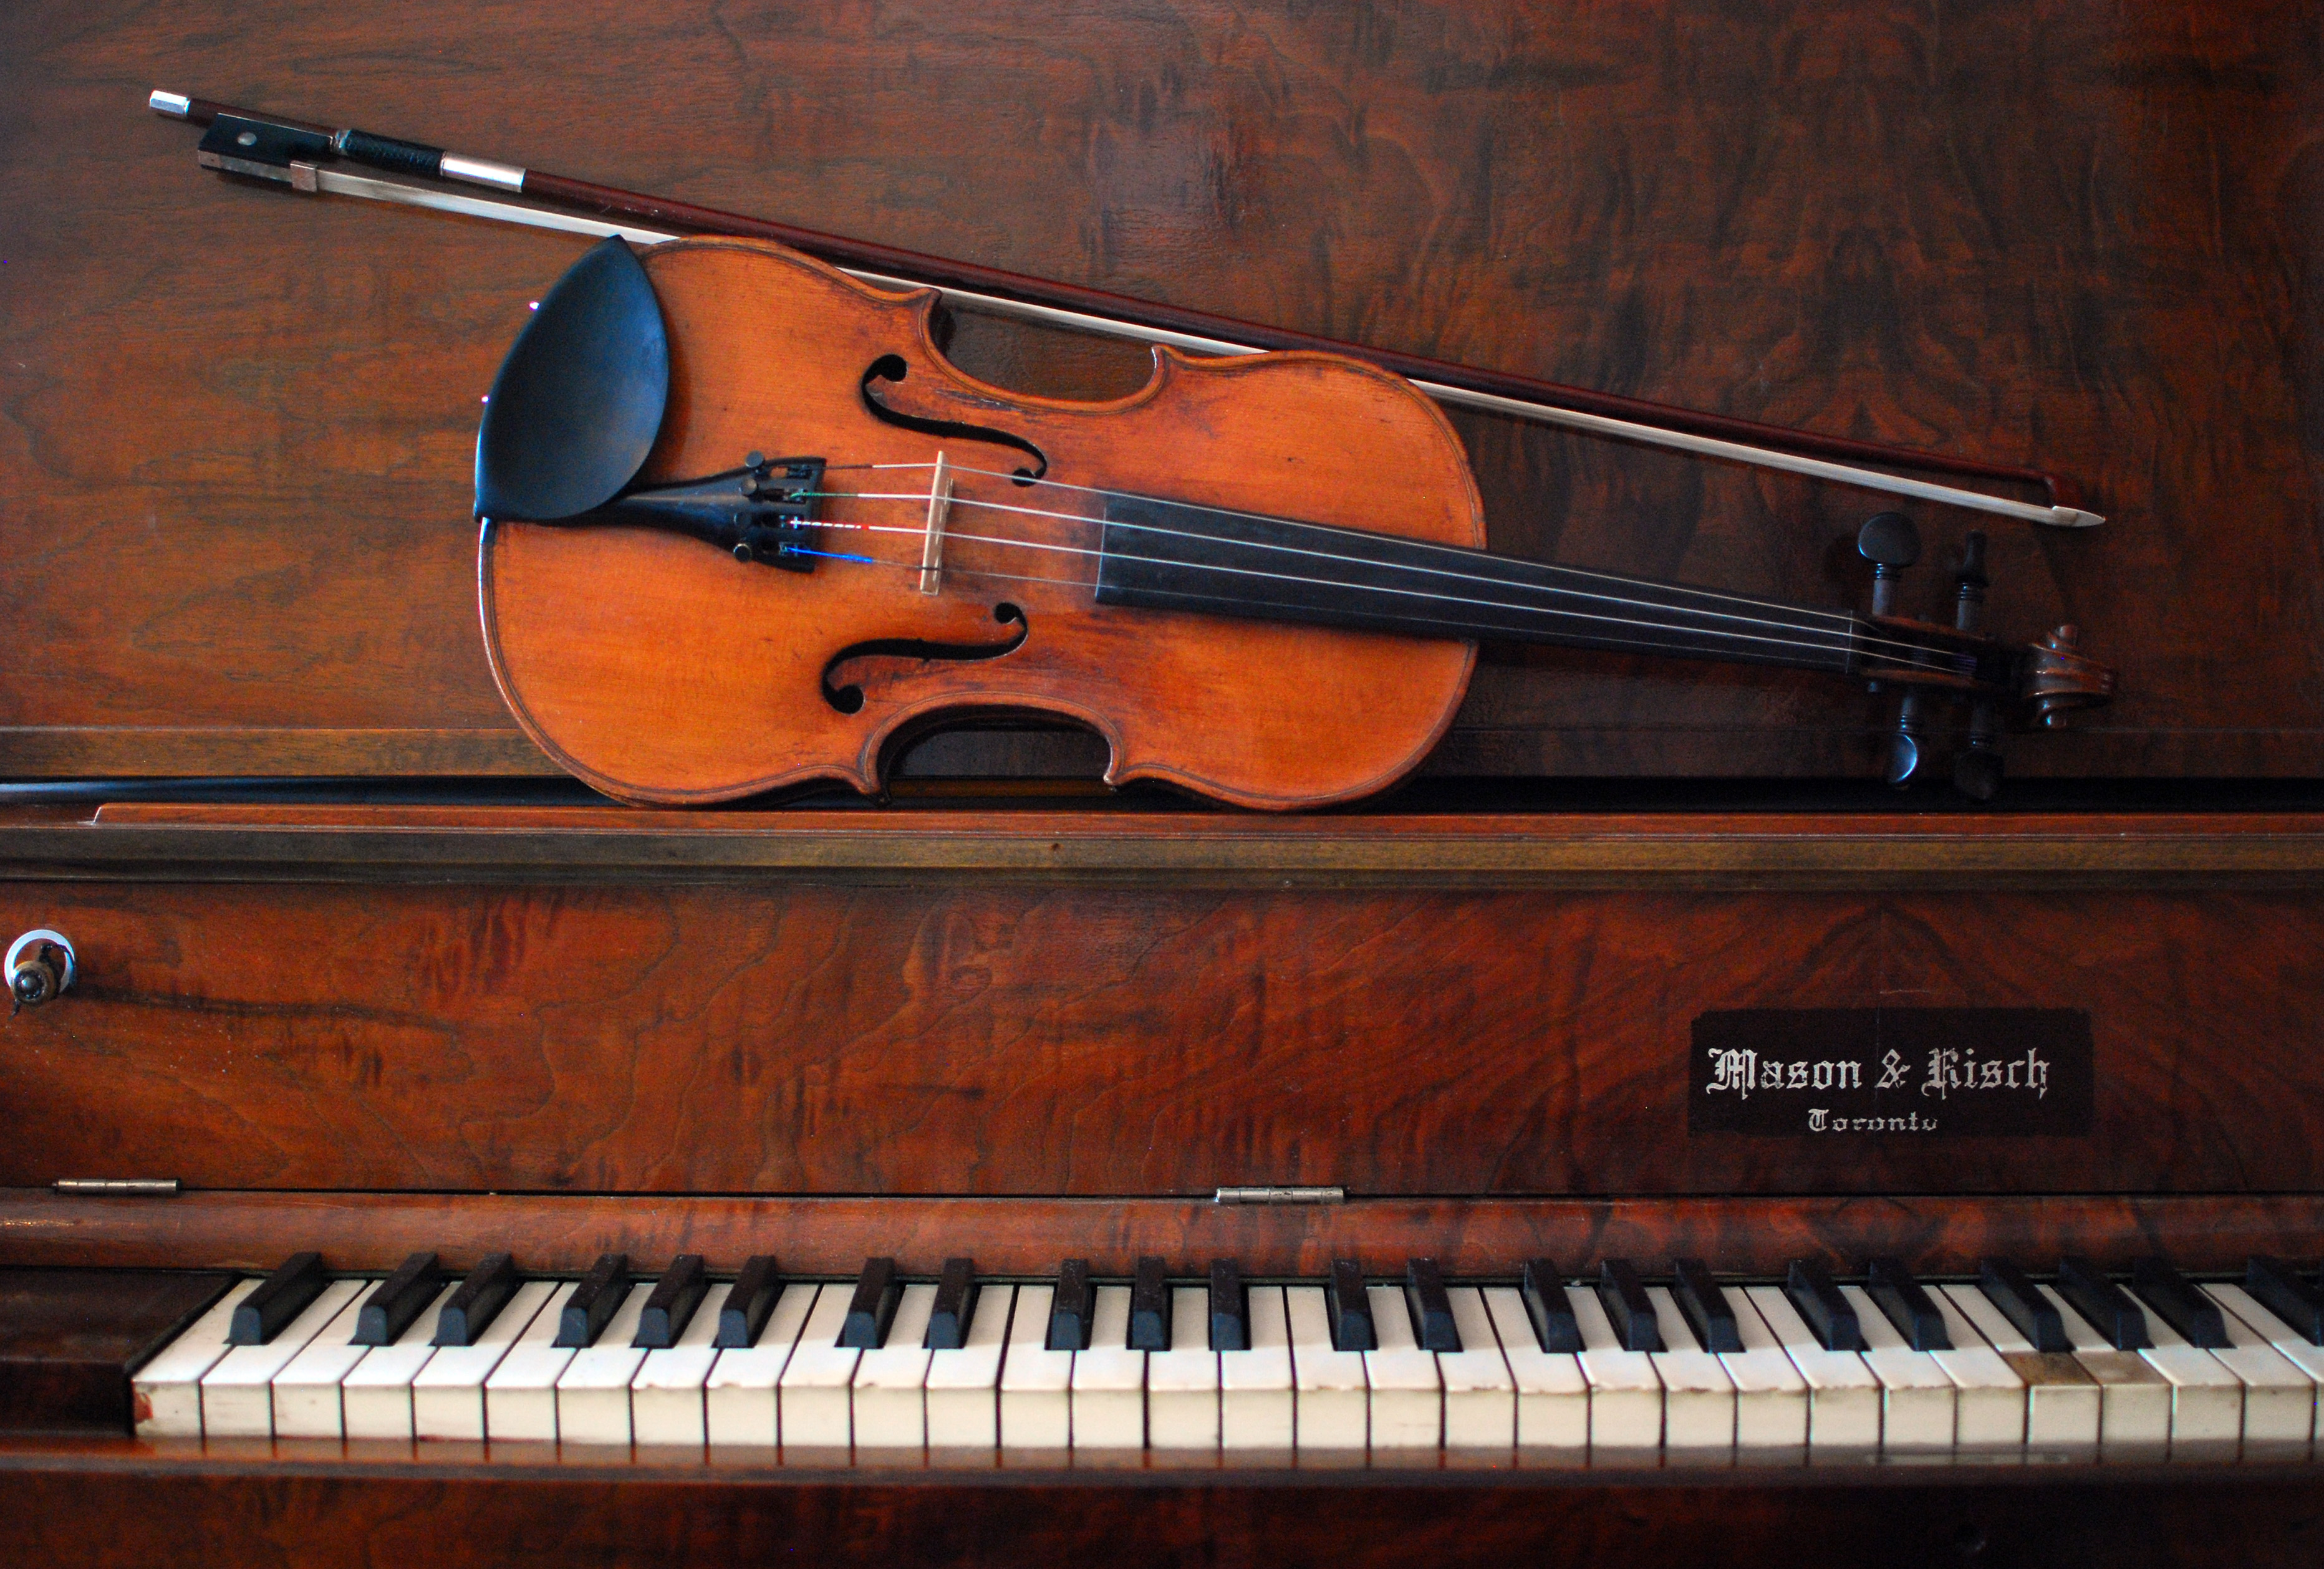Fiddle: (144, 67, 2189, 799)
